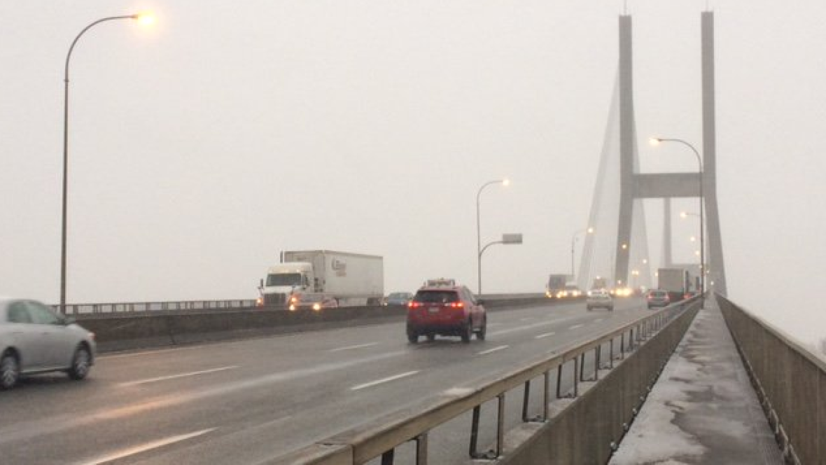airplane: (544, 274, 581, 300)
bench: (281, 298, 662, 458)
boat: (543, 275, 578, 300)
bus: (271, 249, 384, 313), (656, 246, 700, 307), (571, 228, 594, 295), (658, 268, 696, 301), (645, 276, 677, 312), (650, 279, 691, 307), (545, 274, 581, 301), (585, 288, 614, 313), (586, 276, 611, 301), (676, 270, 696, 301), (650, 290, 684, 308), (646, 290, 670, 309), (685, 271, 699, 300), (612, 283, 632, 299), (683, 272, 693, 299)
car: (0, 298, 99, 387), (260, 251, 377, 315), (404, 283, 488, 344), (255, 262, 334, 315), (265, 284, 326, 314), (653, 270, 695, 307), (406, 279, 459, 306), (645, 279, 683, 310), (291, 293, 339, 315), (388, 288, 429, 313), (284, 287, 317, 317), (307, 299, 353, 320), (544, 274, 581, 300), (297, 301, 339, 322), (585, 277, 613, 308), (382, 293, 413, 321), (338, 295, 385, 313), (368, 294, 410, 314), (355, 294, 395, 314), (411, 278, 460, 294), (289, 300, 328, 317), (586, 291, 614, 313), (650, 290, 684, 308), (387, 288, 419, 305), (302, 298, 338, 313), (545, 281, 570, 301), (296, 296, 324, 313), (314, 299, 339, 318), (590, 287, 616, 305), (646, 289, 669, 309), (384, 293, 413, 308), (586, 276, 603, 301), (556, 285, 584, 300), (420, 279, 456, 290), (591, 280, 615, 296), (395, 294, 415, 313), (370, 294, 399, 307), (338, 297, 371, 308), (641, 289, 659, 309), (580, 279, 598, 299), (588, 277, 608, 294), (627, 291, 647, 308), (617, 287, 643, 300), (663, 291, 687, 305), (612, 283, 632, 299), (364, 296, 384, 312), (255, 279, 265, 309), (403, 294, 418, 314), (628, 287, 647, 302)
motorcycle: (406, 283, 487, 346), (294, 293, 339, 318)
parking meter: (570, 229, 594, 296)
person: (262, 249, 381, 313), (406, 282, 488, 345), (5, 300, 59, 325), (279, 276, 308, 310), (27, 302, 55, 324), (286, 285, 306, 311), (647, 289, 669, 310), (9, 304, 32, 324), (588, 277, 610, 294), (255, 278, 265, 309), (313, 276, 325, 294)
train: (657, 268, 696, 302), (650, 279, 691, 307), (647, 289, 684, 309)
truck: (0, 298, 99, 389), (259, 250, 384, 311), (406, 283, 487, 346), (254, 264, 344, 314), (656, 246, 700, 307), (544, 250, 582, 301), (265, 284, 326, 314), (571, 228, 594, 295), (257, 278, 301, 312), (656, 268, 696, 303), (645, 276, 677, 312), (650, 279, 691, 307), (291, 293, 339, 315), (545, 274, 582, 300), (413, 279, 460, 299), (368, 294, 410, 314), (585, 288, 614, 313), (586, 276, 612, 303), (676, 270, 696, 301), (650, 290, 684, 308), (302, 298, 338, 313), (646, 289, 669, 309), (383, 293, 412, 308), (420, 279, 456, 290), (588, 277, 608, 294), (663, 291, 687, 305), (612, 283, 632, 299)
